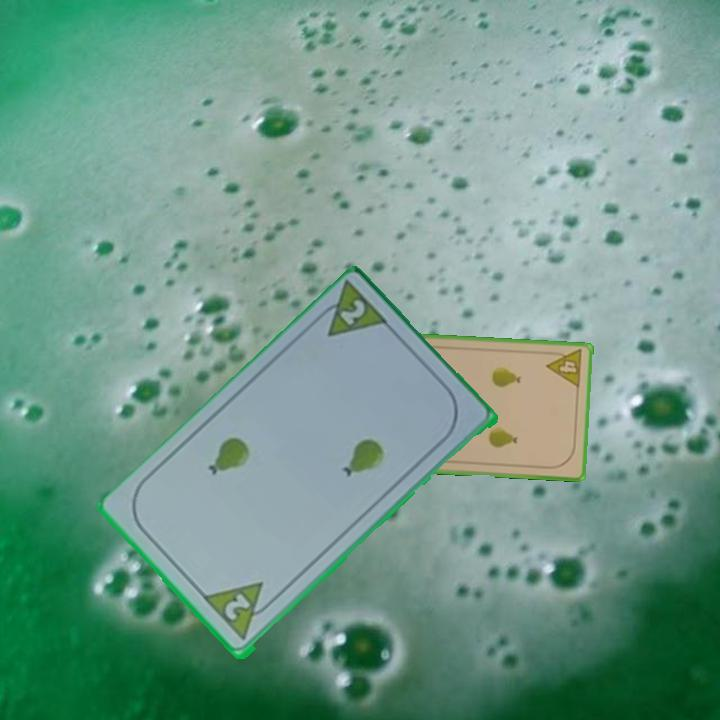2p: (201, 579, 280, 645), (336, 296, 369, 329)
4p: (543, 346, 585, 391)
